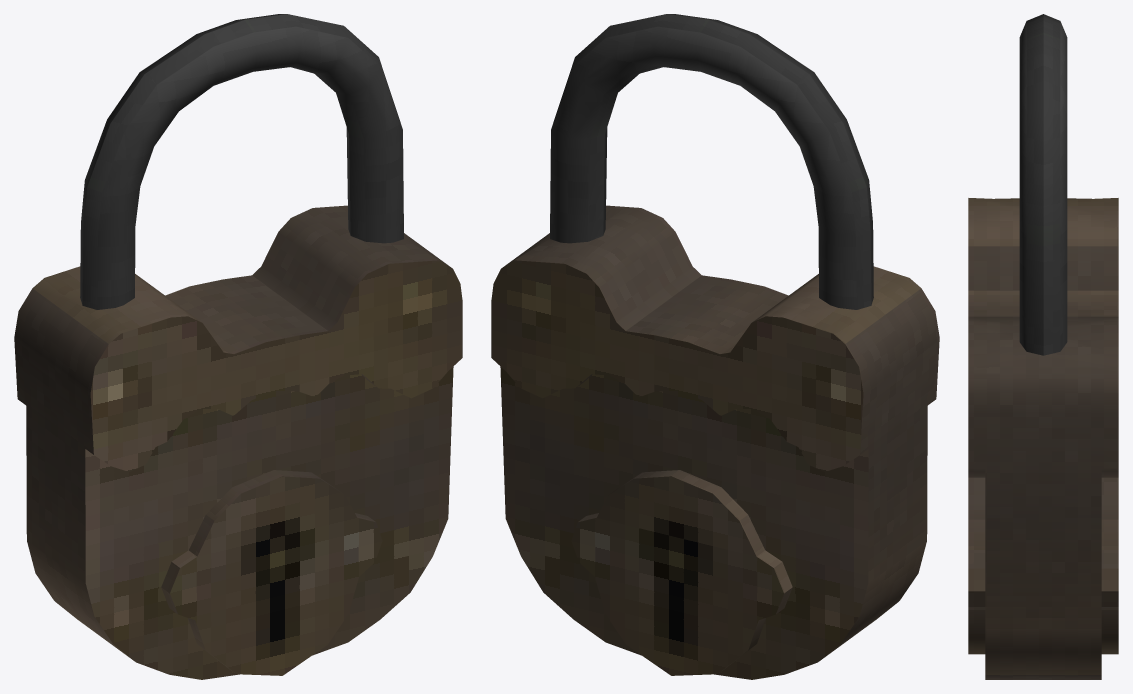
File: padlock_1.obj
The picture shows the model from 3 angles, left to right: view 1: azimuth 30°, elevation 25°; view 2: azimuth 150°, elevation 25°; view 3: azimuth 270°, elevation 25°; orthographic projection.
Visible parts, largest first — view 1: padlock_1; view 2: padlock_1; view 3: padlock_1.
Part boxes in pixels (x1,y1,x2,y2): padlock_1: [14, 14, 462, 679]; padlock_1: [491, 14, 939, 679]; padlock_1: [968, 14, 1118, 679].
Bounding box in the file's own units: 0.0619 × 0.0999 × 0.022.
